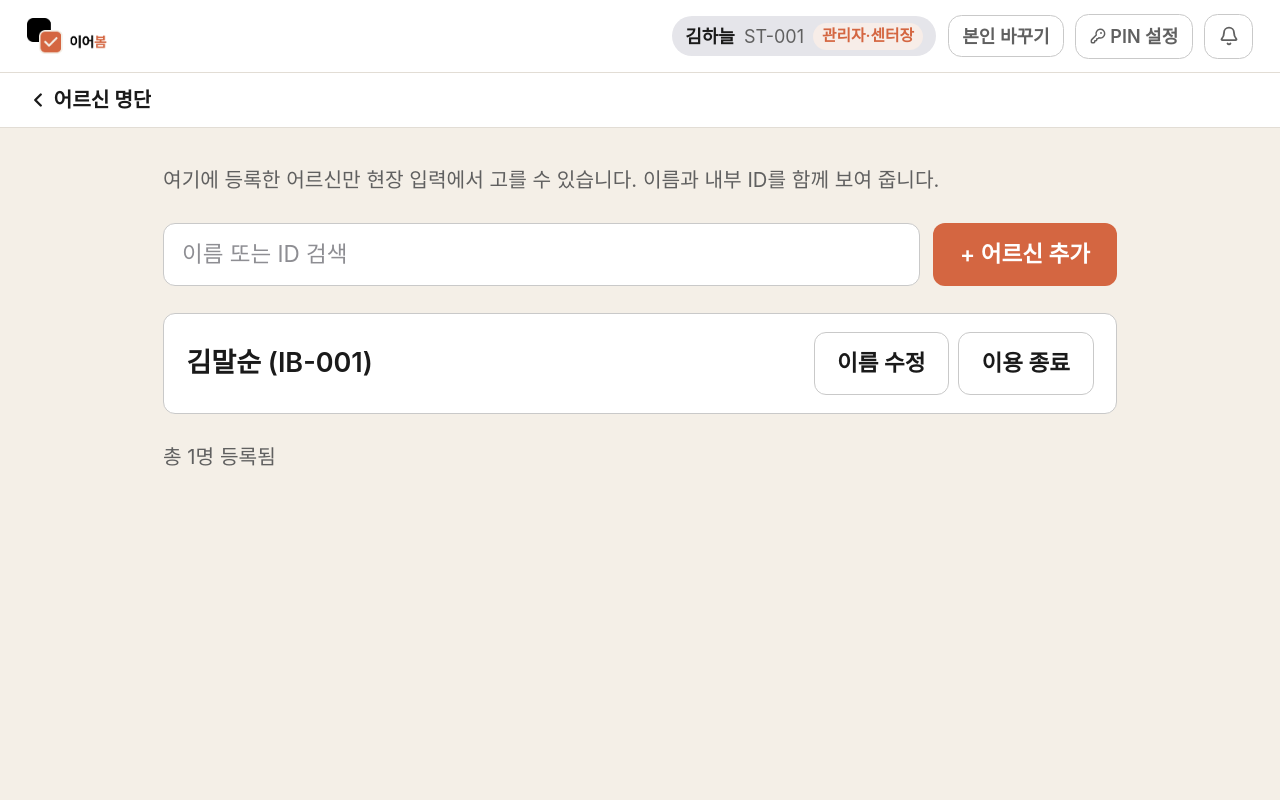
어르신 등록 (n51 · n52 · n53) › "+ 어르신 추가" 를 누르면 등록 모달이 열린다
Check: the text "김말순 (IB-001)" is shown, box [186, 345, 373, 381]
Click the button "+ 어르신 추가": (1025, 254) [933, 222, 1117, 286]
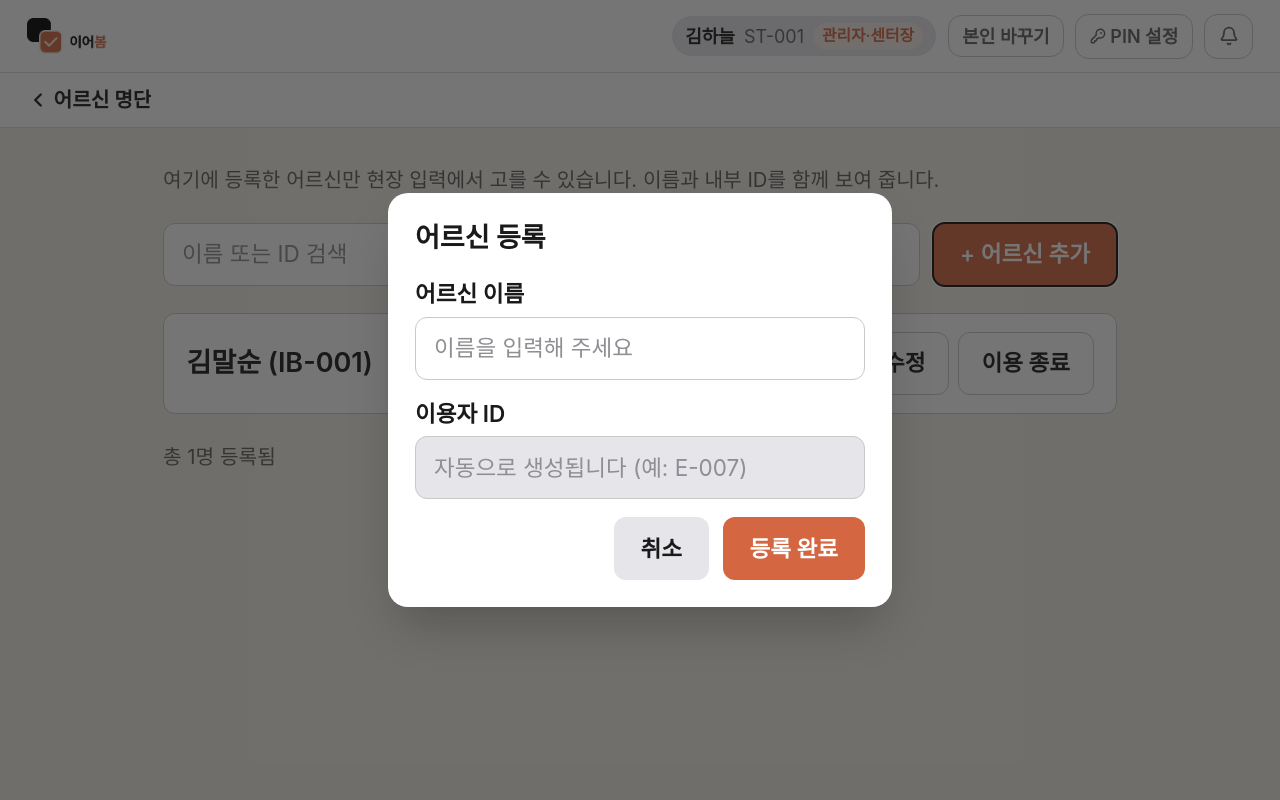
Check: the dialog "어르신 등록" is shown
Check: the field labelled "이용자 ID" holds "자동으로 생성됩니다 (예: E-007)", box [415, 436, 865, 499]
